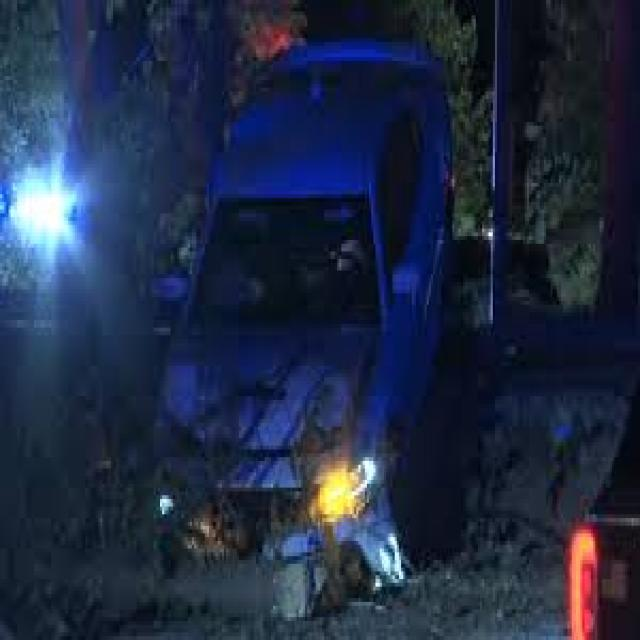accident: (140, 80, 421, 597)
